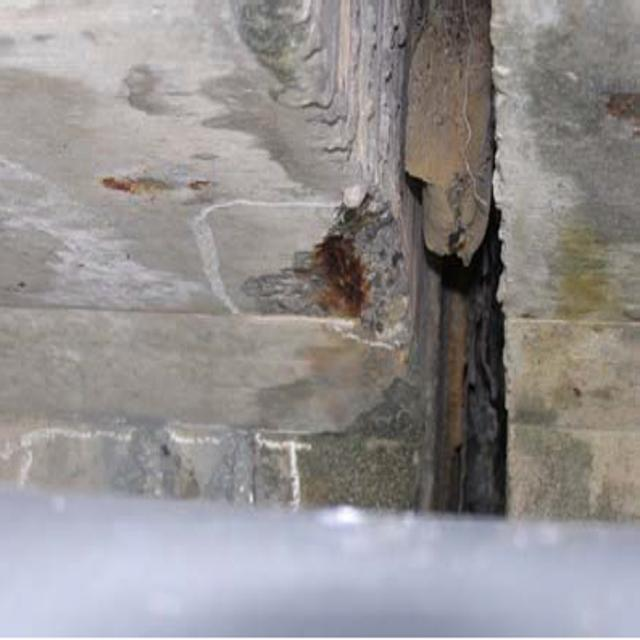spalling: (228, 174, 416, 353)
